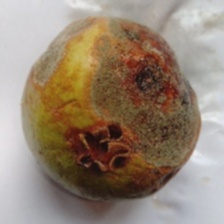guava: (32, 29, 224, 193)
